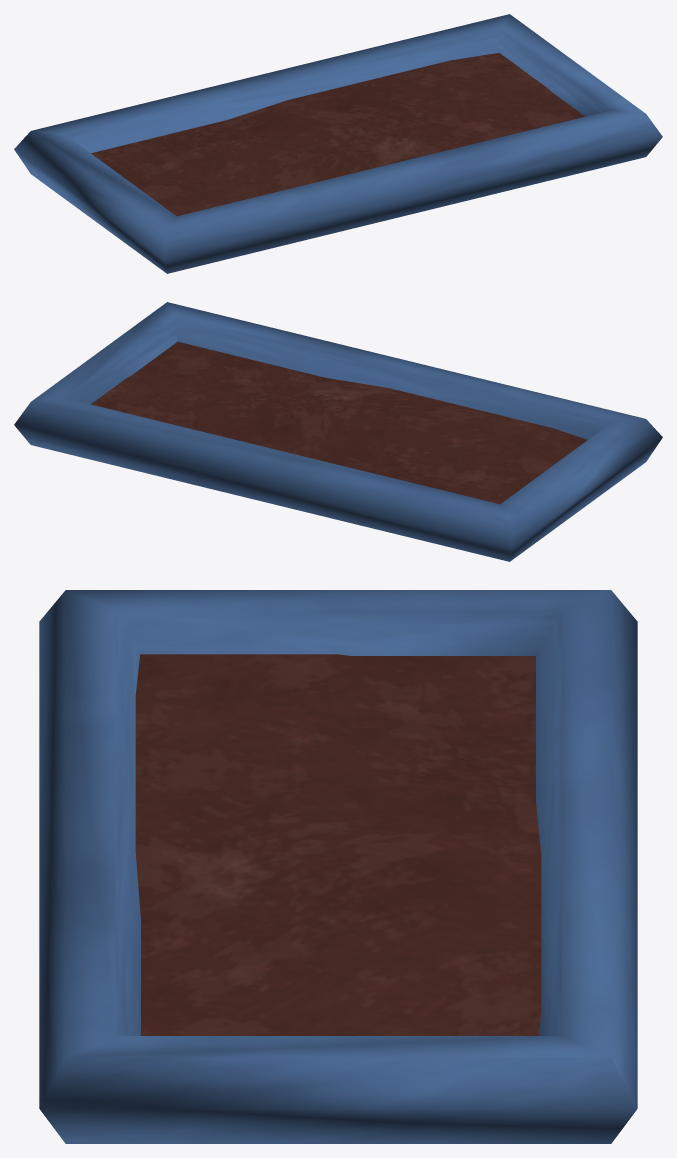
The model's file is plantenbak.fbx.
3 views of the same model, one above another, from view 1: azimuth 30°, elevation 25°; view 2: azimuth 150°, elevation 25°; view 3: azimuth 270°, elevation 25° (orthographic). The views are drawn at different scales.
Visible parts, largest first — view 1: RechthoekPlantenbak, dirtrechthoek; view 2: RechthoekPlantenbak, dirtrechthoek; view 3: RechthoekPlantenbak, dirtrechthoek.
Part boxes in pixels (x1,y1,x2,y2): RechthoekPlantenbak: [14, 14, 662, 273]; dirtrechthoek: [91, 53, 584, 216]; RechthoekPlantenbak: [14, 302, 662, 561]; dirtrechthoek: [91, 341, 587, 504]; RechthoekPlantenbak: [39, 590, 637, 1143]; dirtrechthoek: [135, 654, 541, 1035].
Size of the model in its own units: 8.38 by 0.6916 by 4.34.
